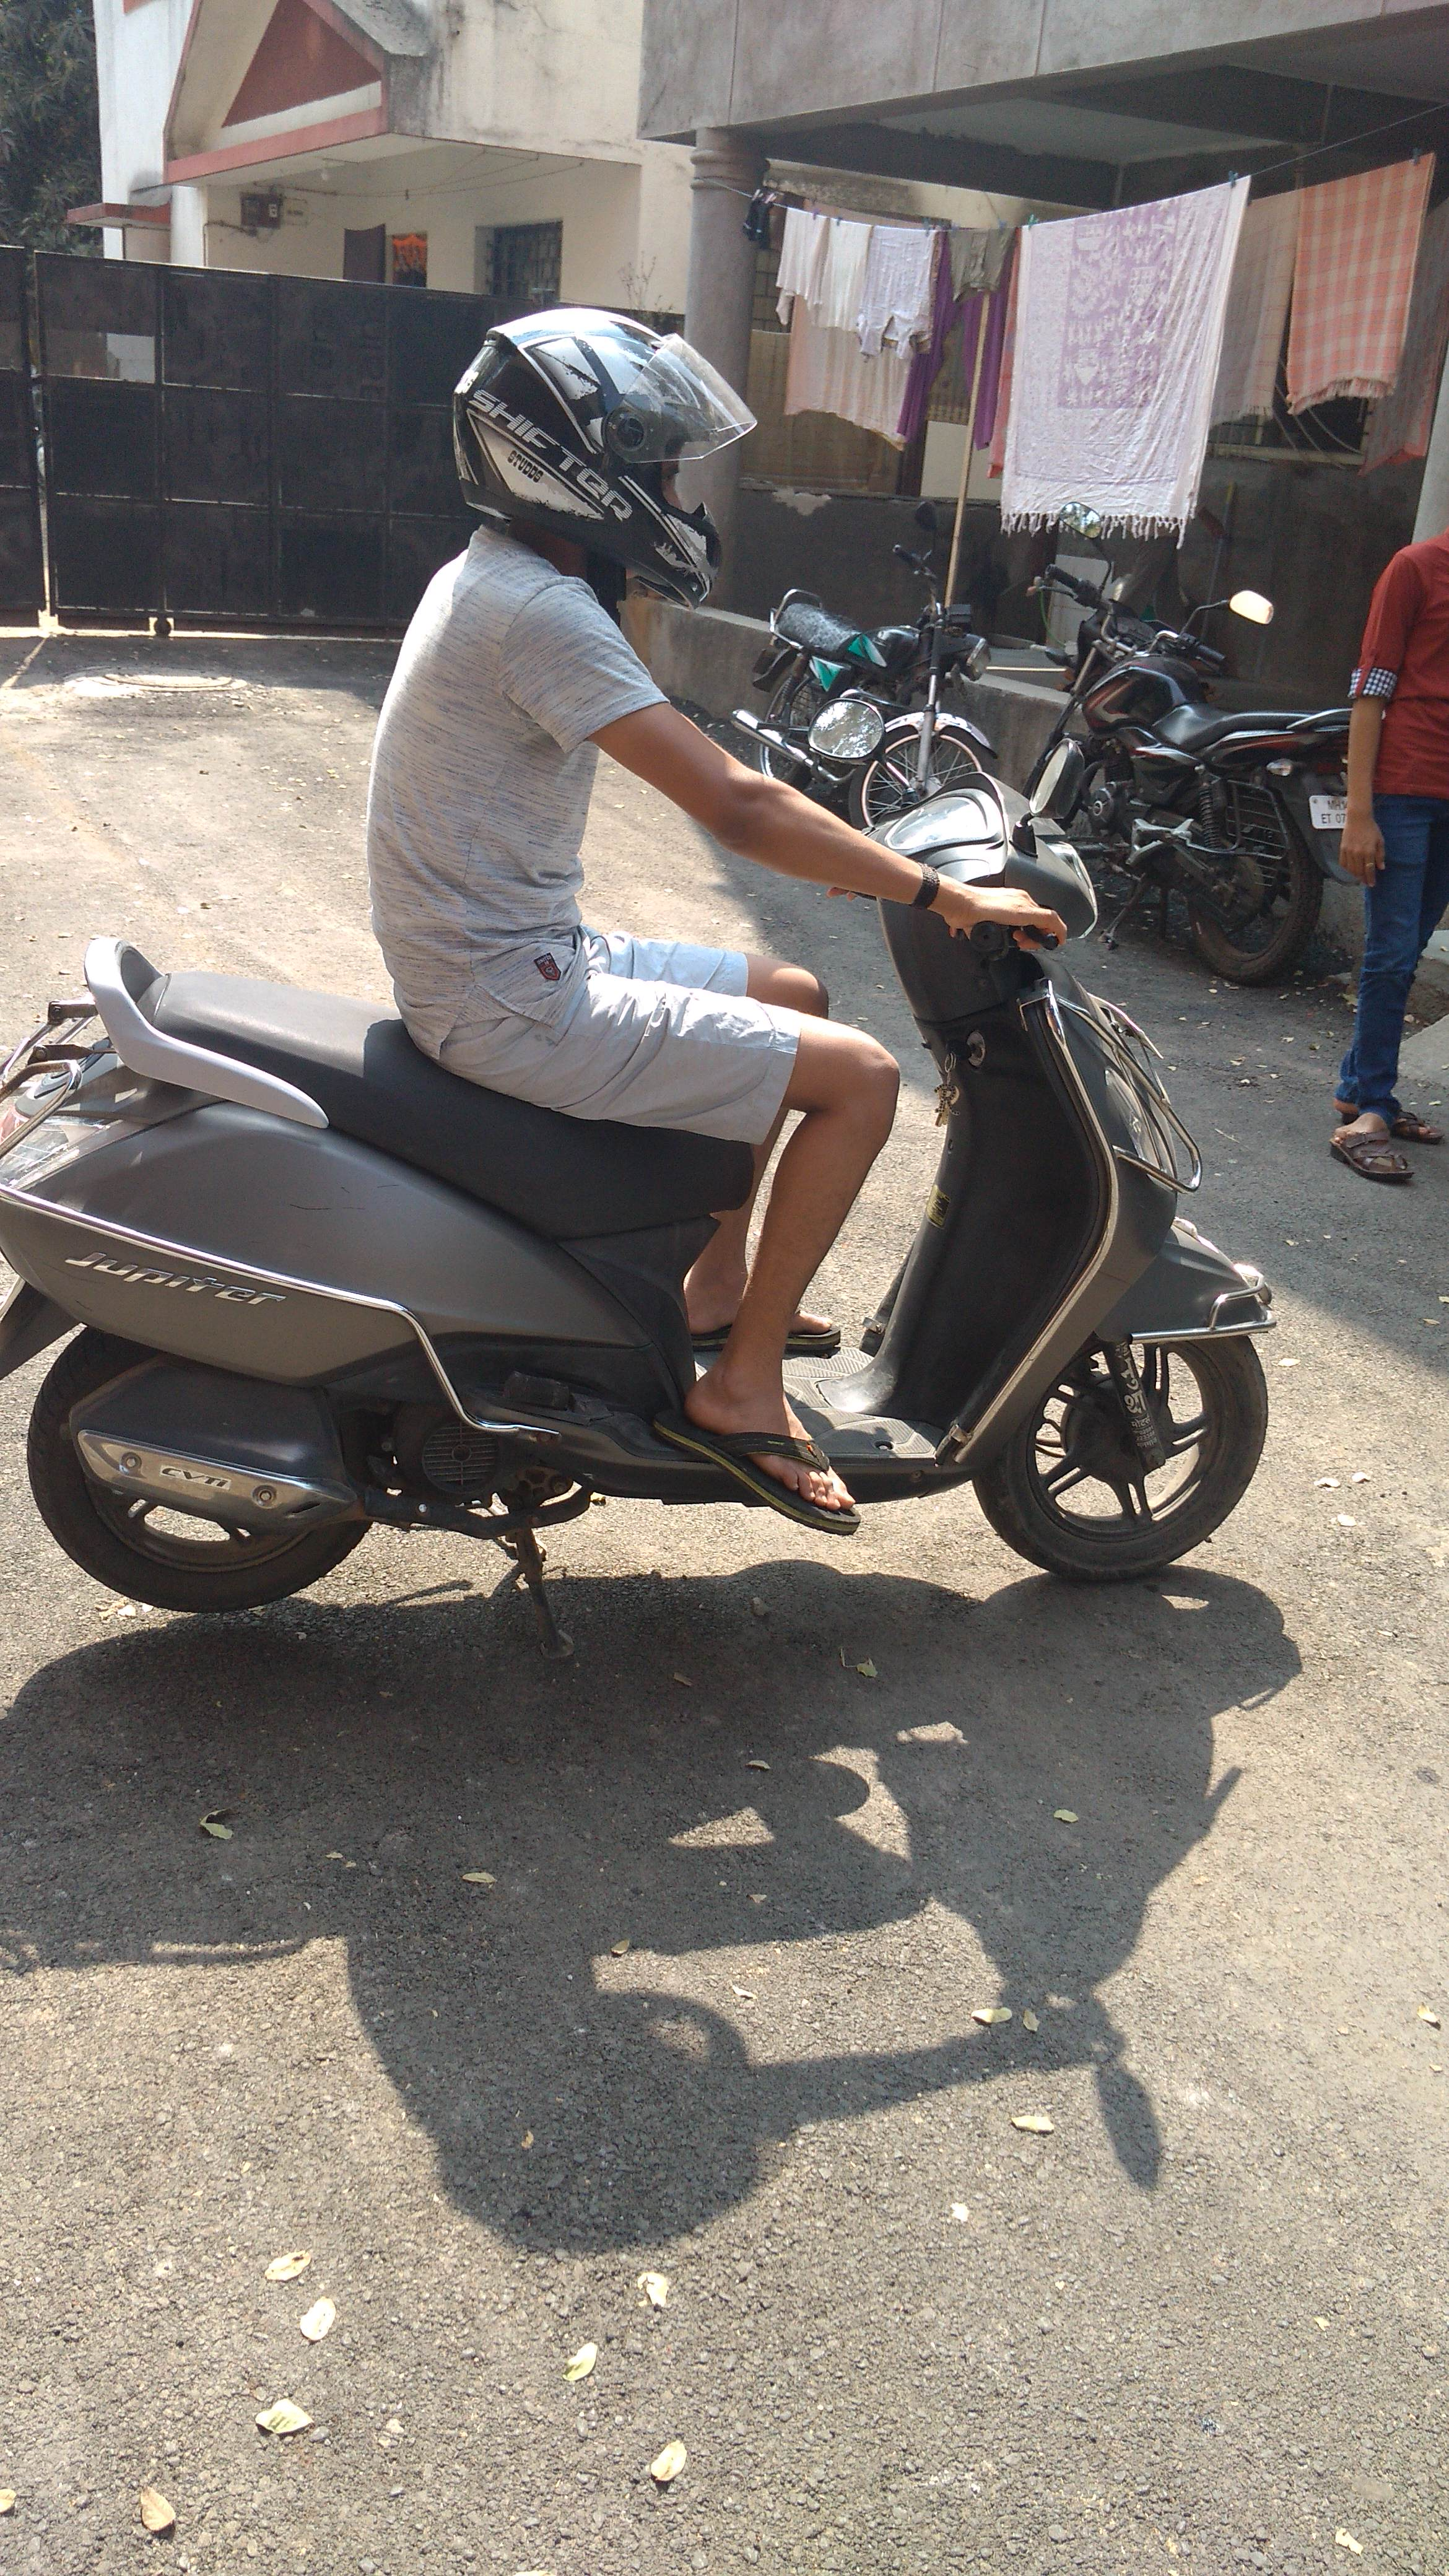helmet: (345, 281, 934, 1136)
